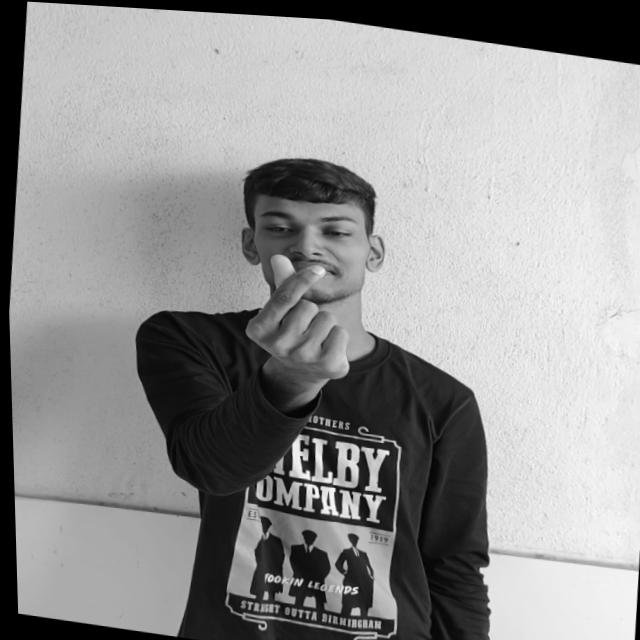Grattitude: (239, 247, 360, 374)
